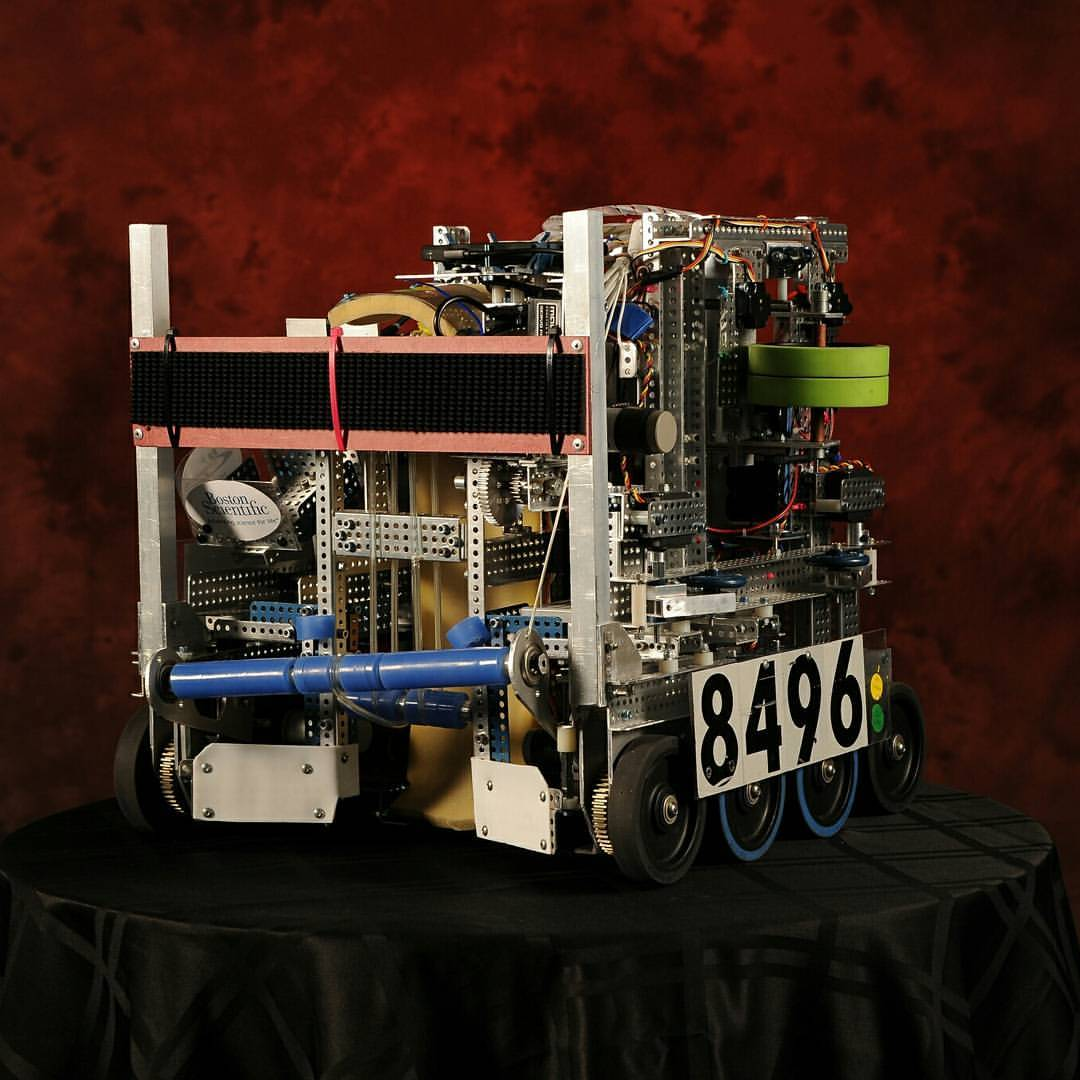robot: (107, 199, 933, 894)
